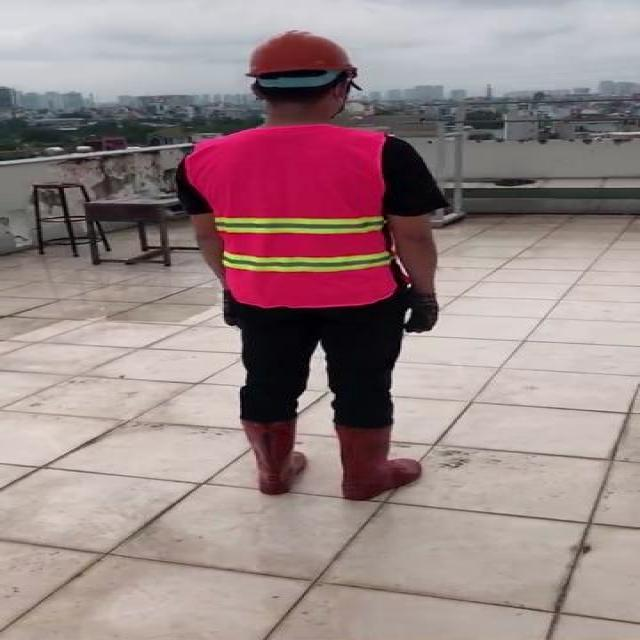boots: (334, 423, 420, 502), (242, 418, 311, 495)
hand_glove: (402, 292, 442, 336), (218, 292, 236, 327)
head_helmet: (247, 28, 357, 78)
person: (171, 25, 453, 513)
vest: (190, 130, 397, 308)
